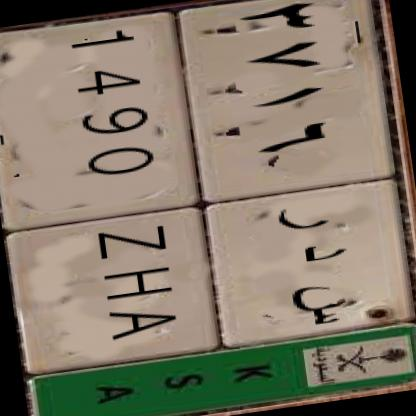english: (0, 7, 238, 376)
